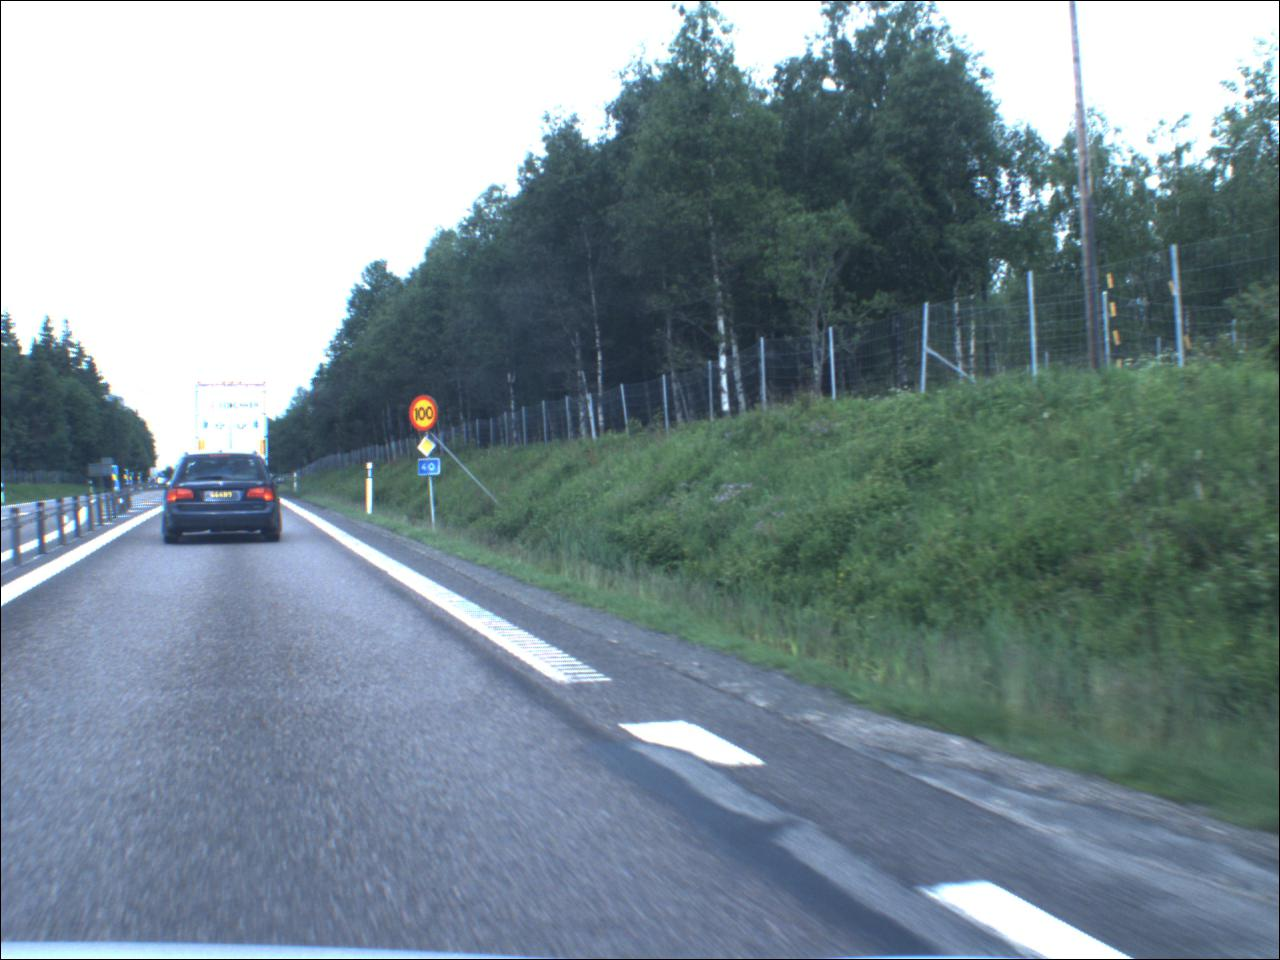100_SIGN: (412, 397, 441, 434)
PRIORITY_ROAD: (417, 439, 438, 459)
